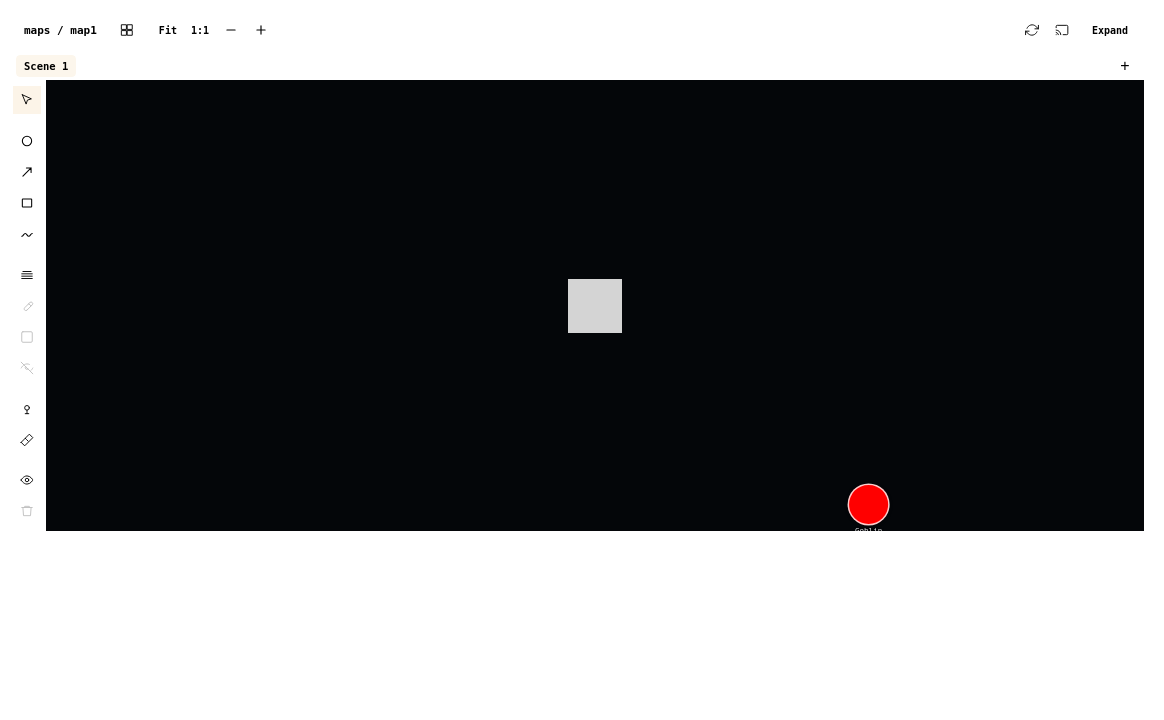
Test: MapDisplay - keyboard repositioning of an existing token › Delete removes the selected token
Press the mouse on the text "Goblin" at (869, 504), box [848,483,890,525]
Press Delete in the text "Goblin", box [848,483,890,525]
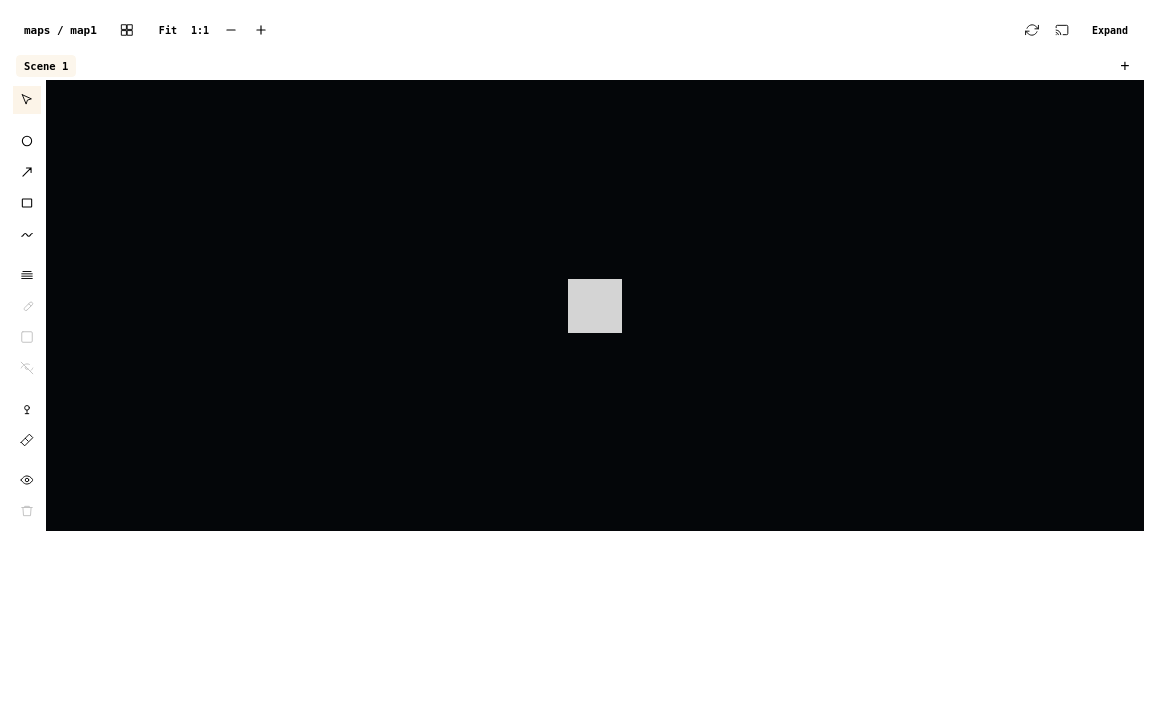
Result: the text "Goblin" is gone
